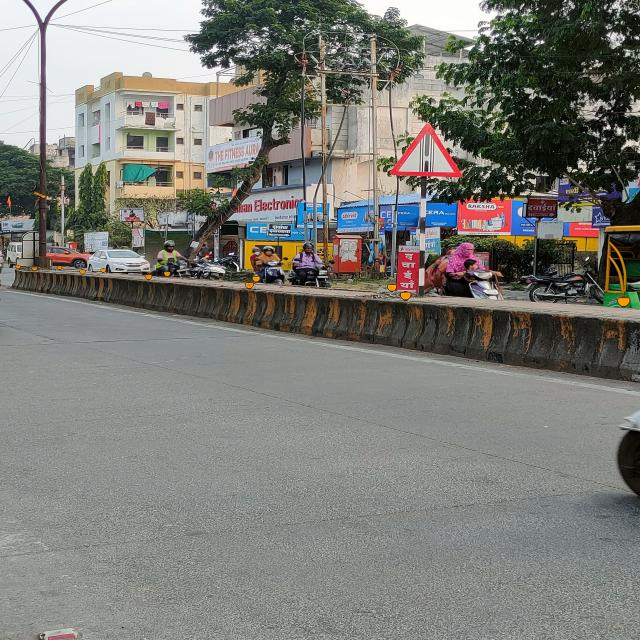GAP_IN_MEDIAN: (391, 122, 464, 176)
